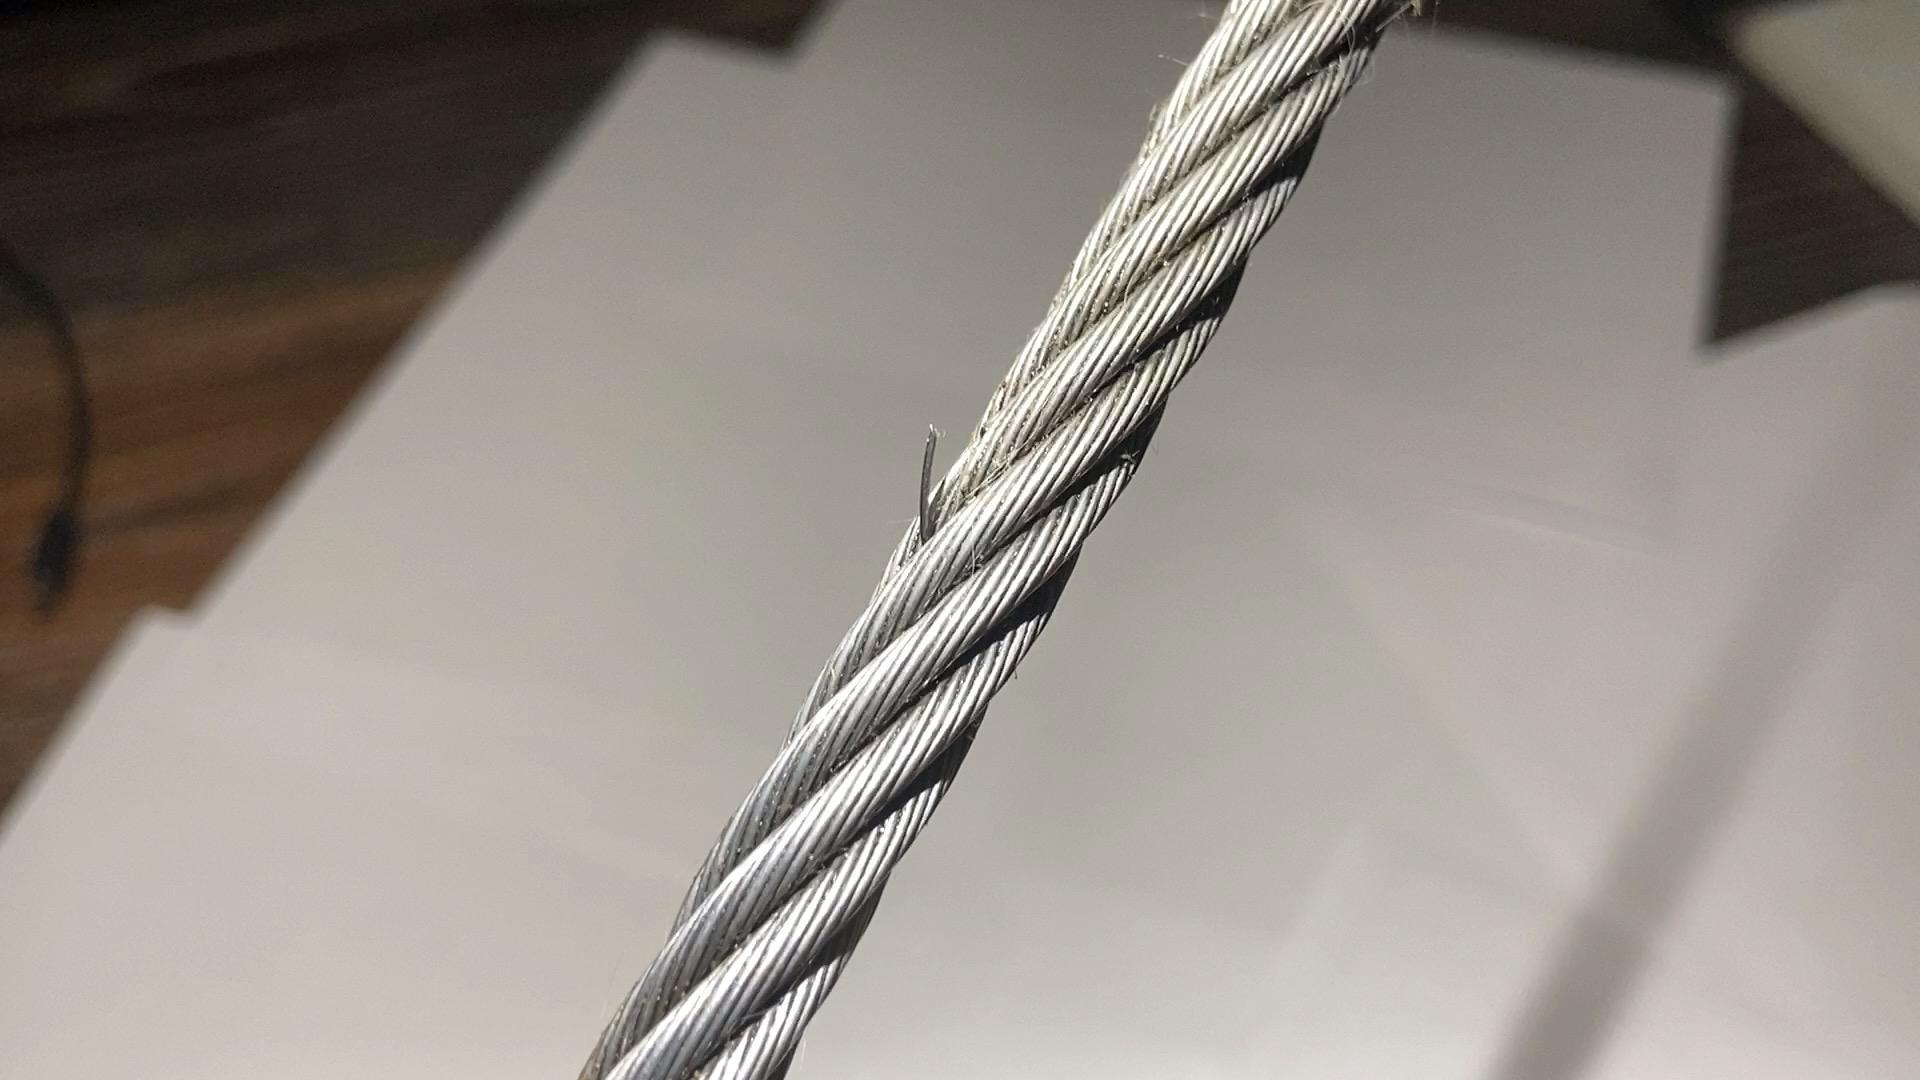break: (887, 419, 975, 543)
